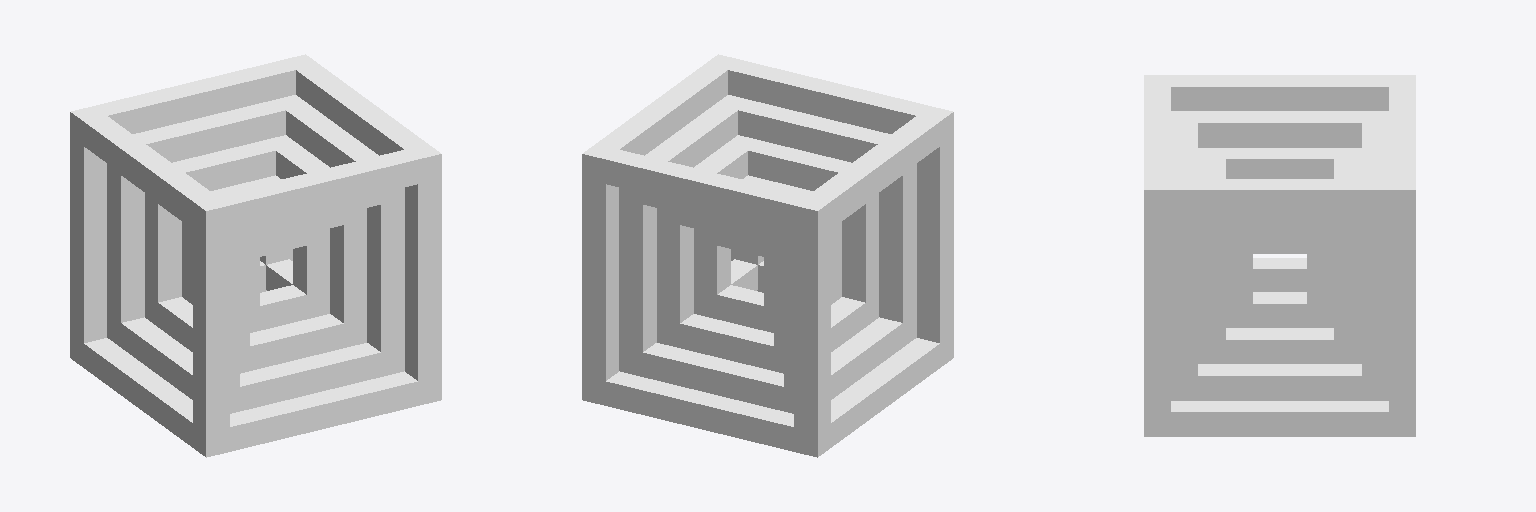
Rendered from mcube.obj.
3 views of the same model, side by side, from view 1: azimuth 30°, elevation 25°; view 2: azimuth 150°, elevation 25°; view 3: azimuth 270°, elevation 25° (orthographic).
Visible parts, largest first — view 1: object 1; view 2: object 1; view 3: object 1.
Boxes of the visible parts, x1=… form: object 1: x1=70, y1=54, x2=441, y2=457; object 1: x1=582, y1=54, x2=953, y2=457; object 1: x1=1144, y1=75, x2=1415, y2=436.
Size of the model in its own units: 1 by 1 by 1.